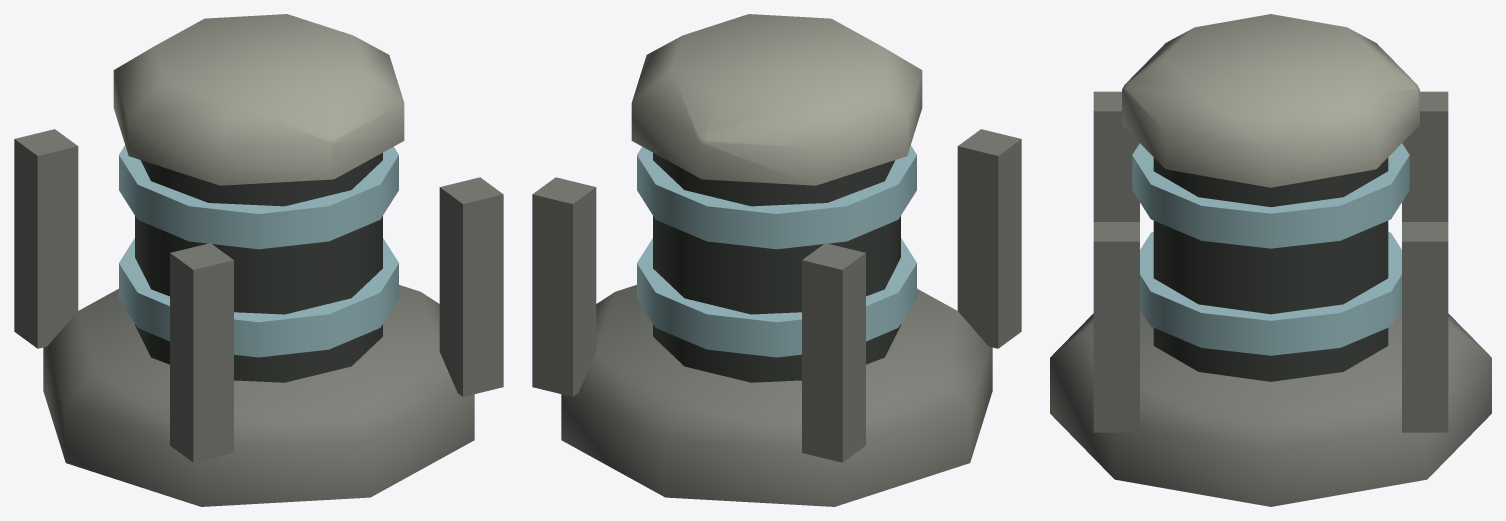
The model's file is grav_extender.obj.
3 views of the same model, side by side, from view 1: azimuth 30°, elevation 25°; view 2: azimuth 150°, elevation 25°; view 3: azimuth 270°, elevation 25° (orthographic).
Parts seen in each view (by area): view 1: source_component_000, source_component_004, source_component_001, source_component_005, source_component_007, source_component_006, source_component_003, source_component_002; view 2: source_component_000, source_component_004, source_component_001, source_component_006, source_component_008, source_component_005, source_component_003, source_component_002; view 3: source_component_000, source_component_004, source_component_001, source_component_003, source_component_002, source_component_007, source_component_008, source_component_005, source_component_006.
Part boxes in pixels (bbox=[...]): source_component_000: bbox=[43, 285, 474, 506]; source_component_004: bbox=[113, 14, 404, 185]; source_component_001: bbox=[135, 152, 382, 382]; source_component_005: bbox=[170, 243, 233, 462]; source_component_007: bbox=[439, 177, 503, 396]; source_component_006: bbox=[14, 129, 78, 348]; source_component_003: bbox=[119, 145, 398, 249]; source_component_002: bbox=[119, 238, 398, 357]; source_component_000: bbox=[561, 285, 992, 506]; source_component_004: bbox=[631, 14, 922, 185]; source_component_001: bbox=[653, 152, 900, 382]; source_component_006: bbox=[802, 243, 865, 462]; source_component_008: bbox=[532, 177, 596, 396]; source_component_005: bbox=[957, 129, 1021, 348]; source_component_003: bbox=[637, 145, 916, 249]; source_component_002: bbox=[637, 238, 916, 357]; source_component_000: bbox=[1050, 310, 1491, 506]; source_component_004: bbox=[1122, 14, 1419, 187]; source_component_001: bbox=[1153, 157, 1388, 381]; source_component_003: bbox=[1132, 143, 1409, 248]; source_component_002: bbox=[1140, 232, 1401, 355]; source_component_007: bbox=[1093, 222, 1139, 432]; source_component_008: bbox=[1402, 222, 1448, 432]; source_component_005: bbox=[1093, 91, 1139, 221]; source_component_006: bbox=[1402, 91, 1448, 221].
Size of the model in its own units: 0.86 by 0.76 by 0.86.
